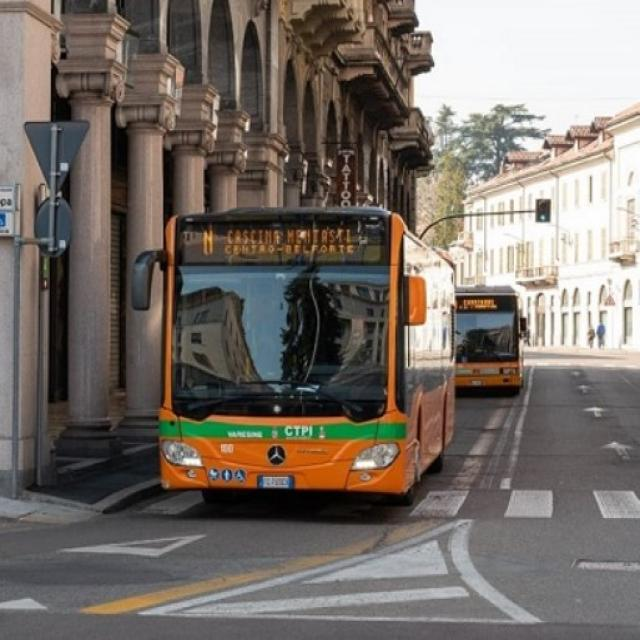bus: (133, 204, 455, 504), (452, 283, 526, 396)
